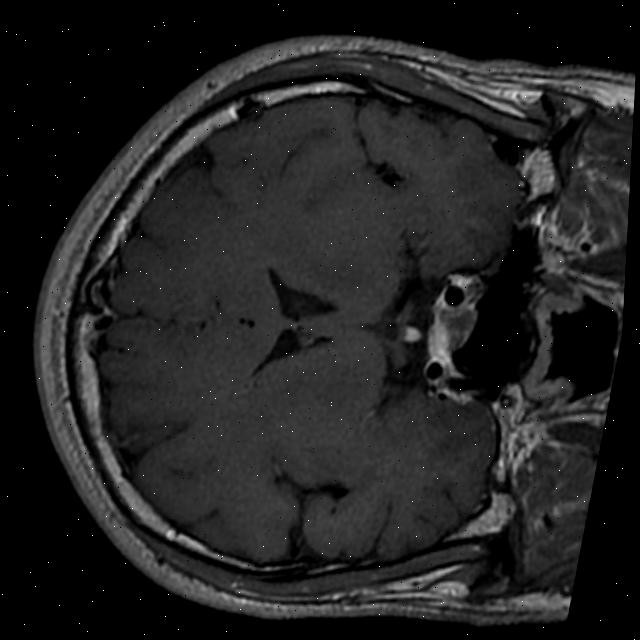Pituitary: (420, 293, 482, 367)
